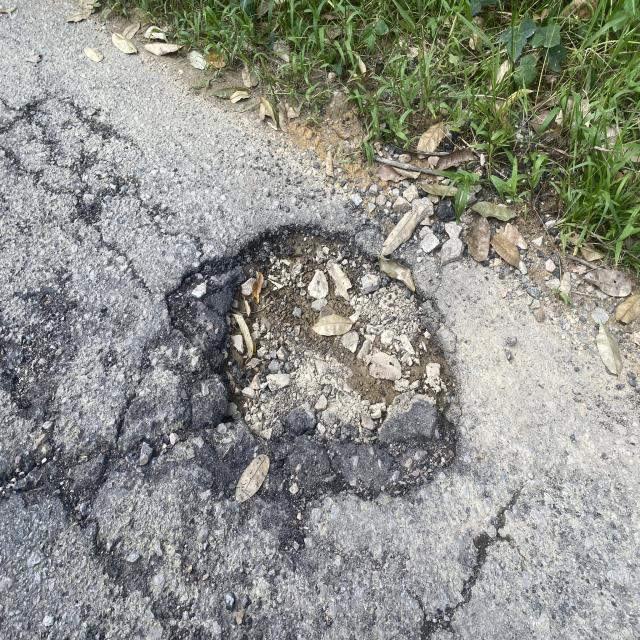pothole: (146, 193, 529, 538)
